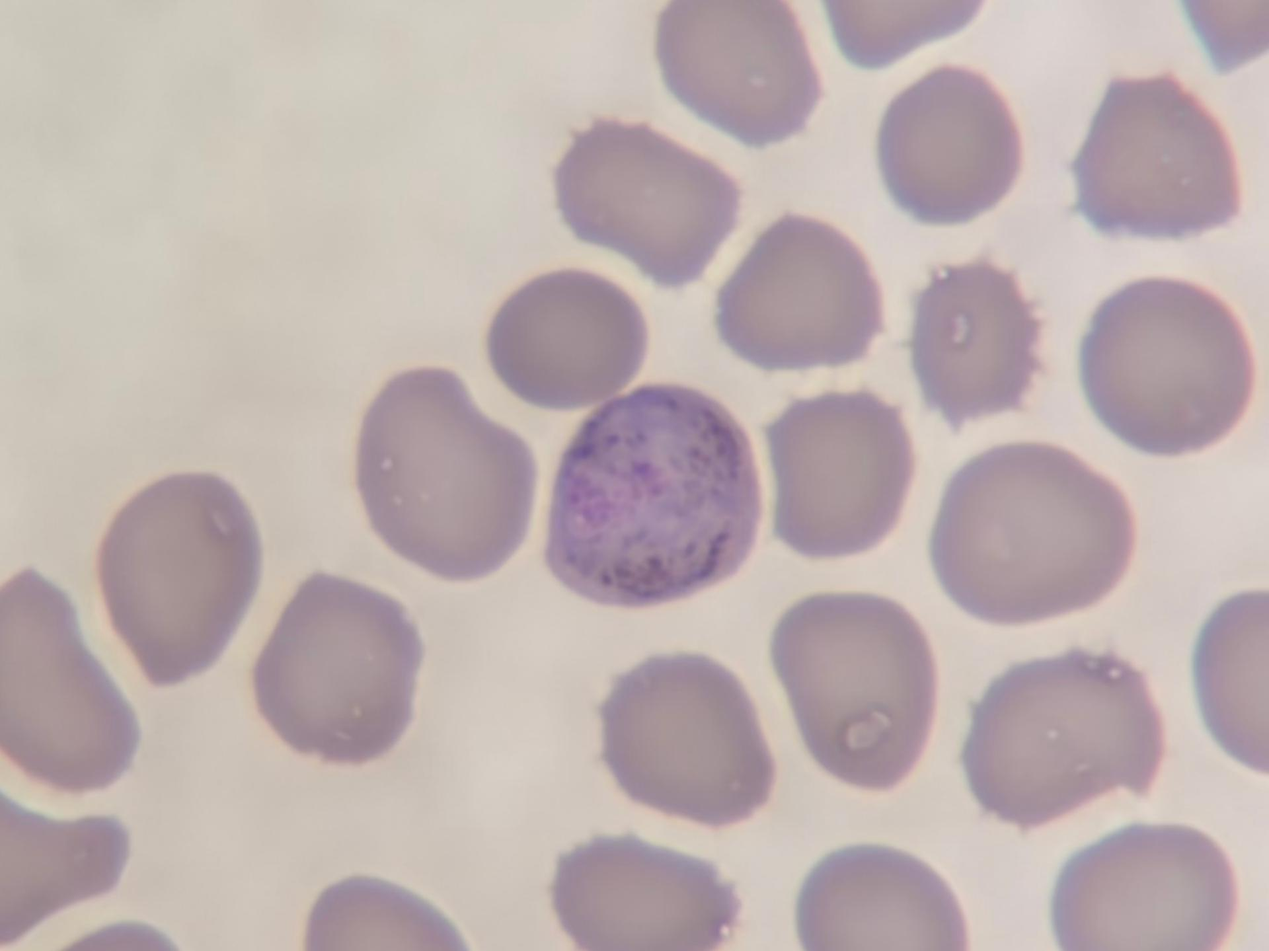Infected: (544, 384, 761, 606)
Uninfected: (355, 371, 532, 581), (965, 653, 1175, 825), (936, 439, 1132, 621), (95, 477, 260, 689), (778, 598, 941, 794), (251, 567, 414, 762), (1080, 283, 1251, 462), (551, 113, 740, 273), (604, 653, 777, 822), (0, 567, 134, 784), (1069, 71, 1241, 239), (718, 206, 886, 374), (773, 388, 919, 561), (651, 0, 818, 147), (1055, 809, 1225, 951), (881, 67, 1016, 229), (489, 265, 646, 402), (553, 838, 733, 951), (912, 261, 1038, 420), (793, 847, 965, 951)
